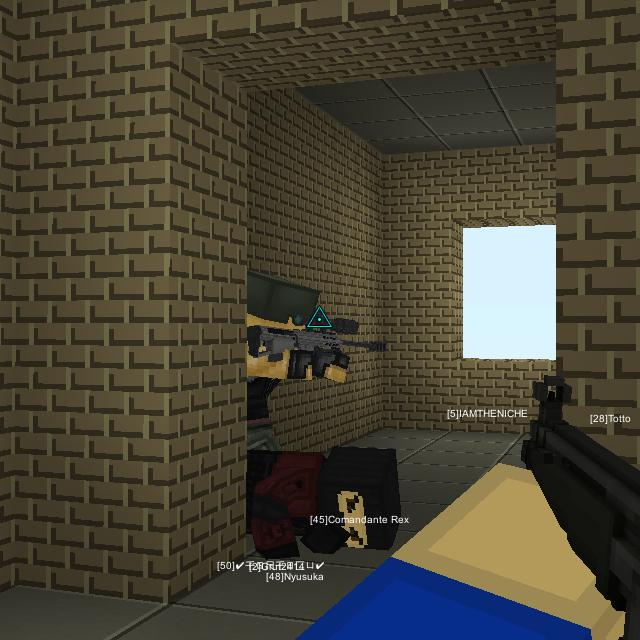enemy: (246, 255, 354, 450)
